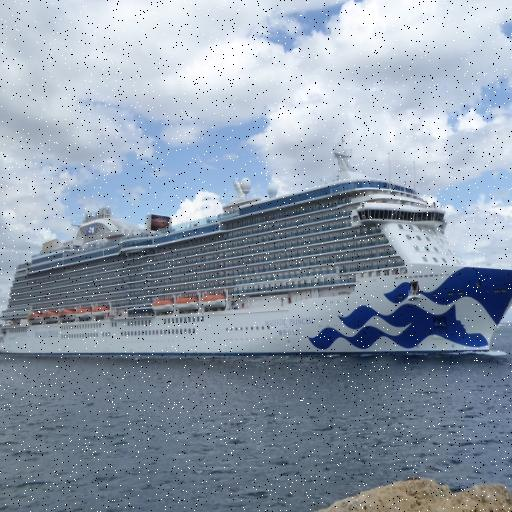cruises: (1, 137, 512, 366)
